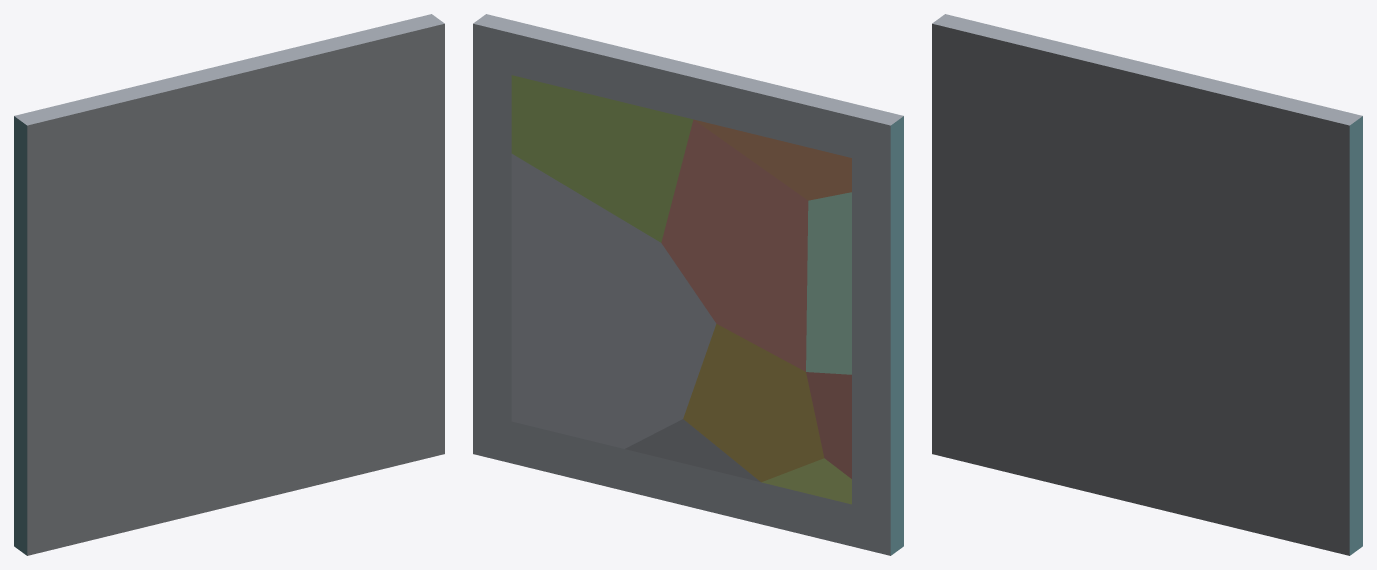
The model's file is SI_Prop_WallDeco_04.fbx.
3 views of the same model, side by side, from view 1: azimuth 30°, elevation 25°; view 2: azimuth 150°, elevation 25°; view 3: azimuth 330°, elevation 25° (orthographic).
Parts seen in each view (by area): view 1: Box003; view 2: Box003; view 3: Box003.
Boxes of the visible parts, bbox=[...] form: Box003: bbox=[14, 14, 444, 555]; Box003: bbox=[473, 14, 903, 555]; Box003: bbox=[932, 14, 1362, 555].
Size of the model in its own units: 94.21 by 5.15 by 92.73.
1 material, 1 textured.
